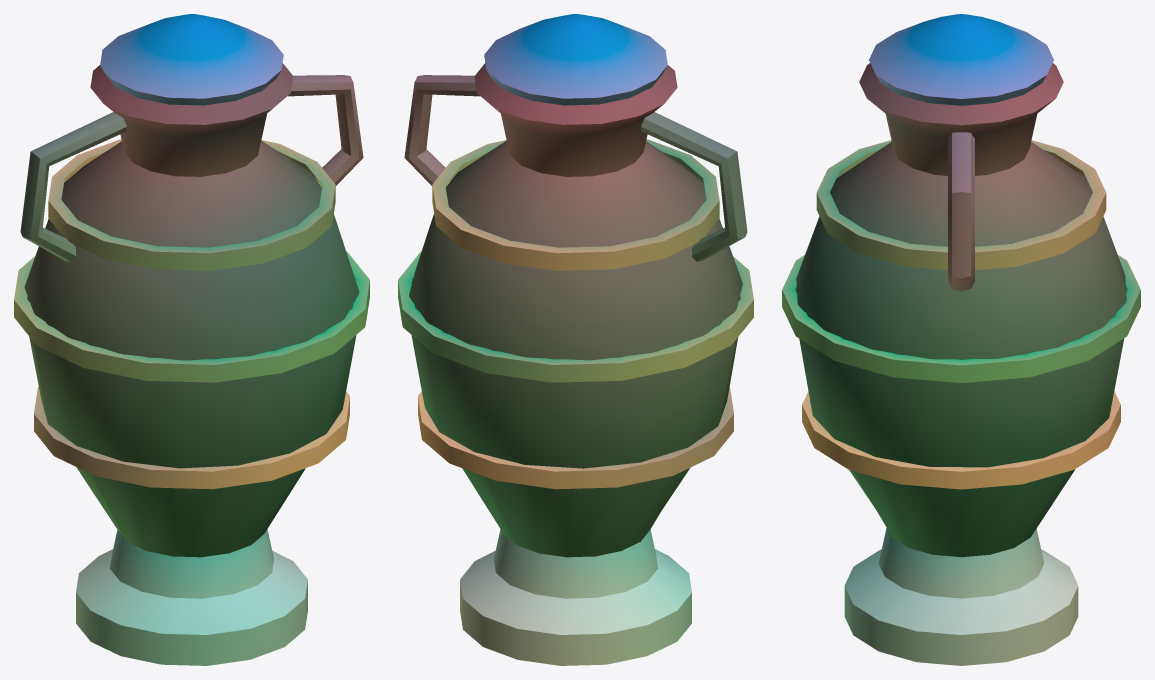
File: honey_amphora.glb
3 views of the same model, side by side, from view 1: azimuth 30°, elevation 25°; view 2: azimuth 150°, elevation 25°; view 3: azimuth 270°, elevation 25° (orthographic).
Visible parts, largest first — view 1: amphora_body, amphora_foot, amphora_seal, amphora_band.001, amphora_band.002, amphora_band, amphora_handle_-1, amphora_handle_1; view 2: amphora_body, amphora_foot, amphora_seal, amphora_band.001, amphora_band.002, amphora_band, amphora_handle_-1, amphora_handle_1; view 3: amphora_body, amphora_foot, amphora_seal, amphora_band.001, amphora_band.002, amphora_band, amphora_handle_1.
Part boxes in pixels (box(x1,y1,x2,y2)): amphora_body: box(24, 63, 359, 557); amphora_foot: box(76, 529, 307, 665); amphora_seal: box(100, 14, 283, 105); amphora_band.001: box(14, 251, 369, 382); amphora_band.002: box(48, 139, 335, 270); amphora_band: box(34, 386, 349, 489); amphora_handle_-1: box(20, 112, 126, 261); amphora_handle_1: box(288, 75, 363, 185); amphora_body: box(409, 63, 742, 557); amphora_foot: box(460, 529, 691, 665); amphora_seal: box(484, 14, 667, 105); amphora_band.001: box(398, 251, 753, 382); amphora_band.002: box(432, 139, 719, 270); amphora_band: box(418, 387, 733, 489); amphora_handle_-1: box(641, 112, 747, 261); amphora_handle_1: box(404, 75, 479, 185); amphora_body: box(795, 63, 1127, 557); amphora_foot: box(844, 528, 1078, 665); amphora_seal: box(869, 14, 1053, 105); amphora_band.001: box(782, 255, 1140, 382); amphora_band.002: box(816, 140, 1106, 269); amphora_band: box(802, 391, 1120, 489); amphora_handle_1: box(948, 132, 974, 291).
Size of the model in its own units: 0.8012 by 1.35 by 0.736.
